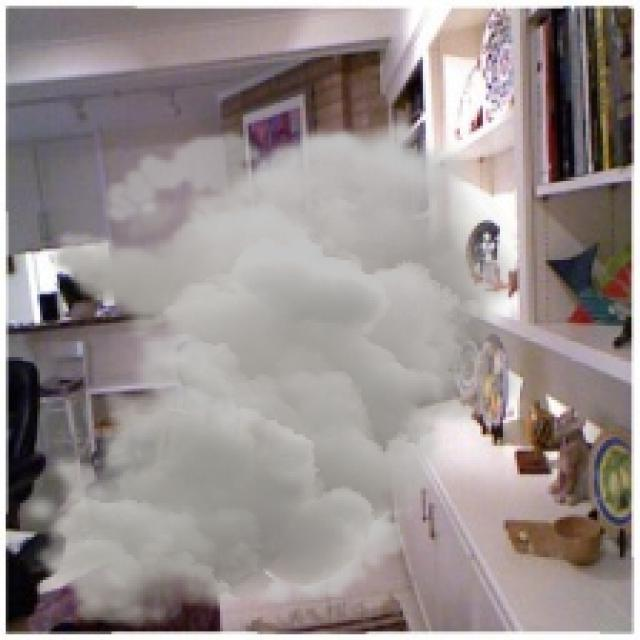smoke: (17, 114, 543, 632)
